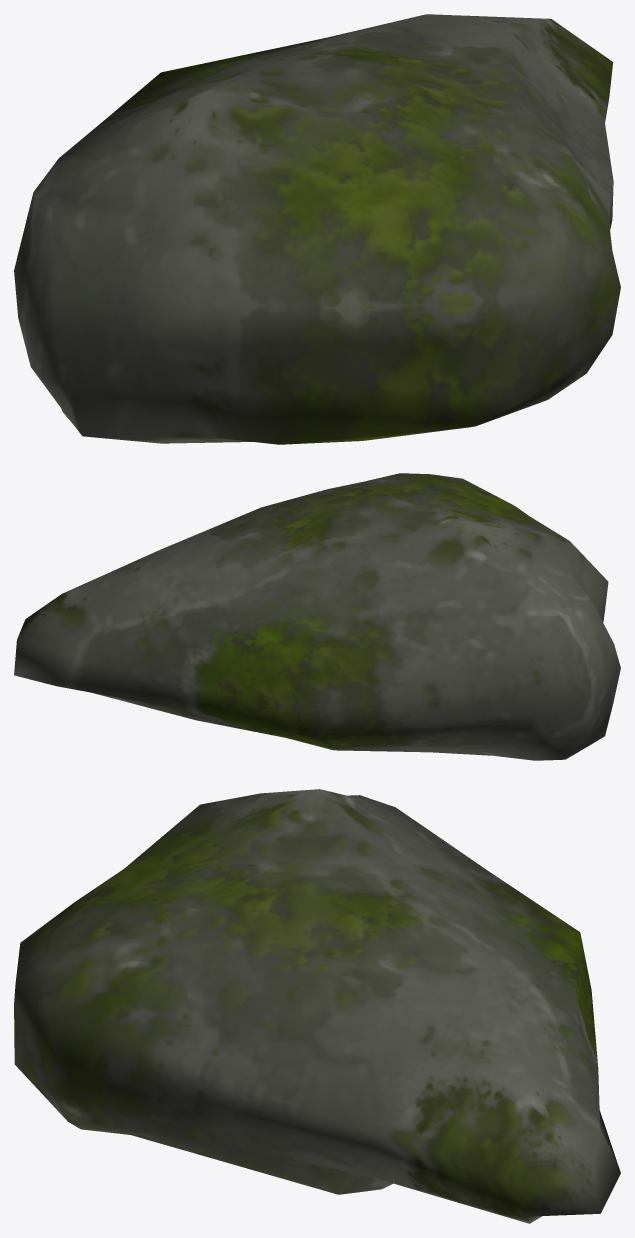
Rendered from Smooth_Boulder_03.fbx.
3 views of the same model, one above another, from view 1: azimuth 30°, elevation 25°; view 2: azimuth 150°, elevation 25°; view 3: azimuth 270°, elevation 25° (orthographic). The views are drawn at different scales.
Visible parts, largest first — view 1: Smooth_Boulder_03; view 2: Smooth_Boulder_03; view 3: Smooth_Boulder_03.
Boxes of the visible parts, x1,y1,x2,y2 form: Smooth_Boulder_03: (14, 14, 620, 444); Smooth_Boulder_03: (14, 473, 620, 760); Smooth_Boulder_03: (14, 789, 620, 1223).
Bounding box in the file's own units: 6.88 × 2.95 × 5.61.
1 material, 1 textured.
